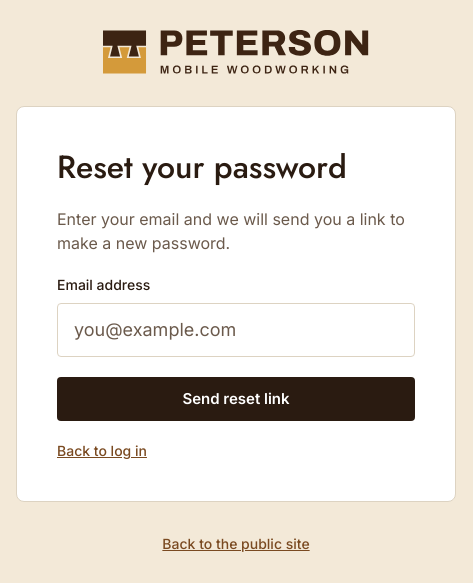
ForgotPasswordPage › asks for an email when the field is empty and sends nothing
Click the button "Send reset link": x=236, y=399 [57,377,415,421]
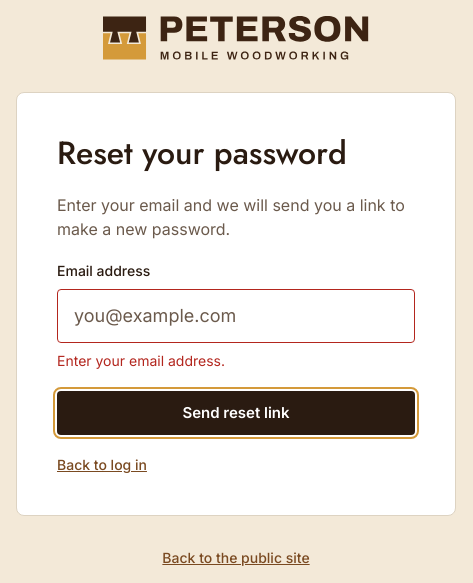
Check: the text "Enter your email address." is shown, box [57,352,225,369]
